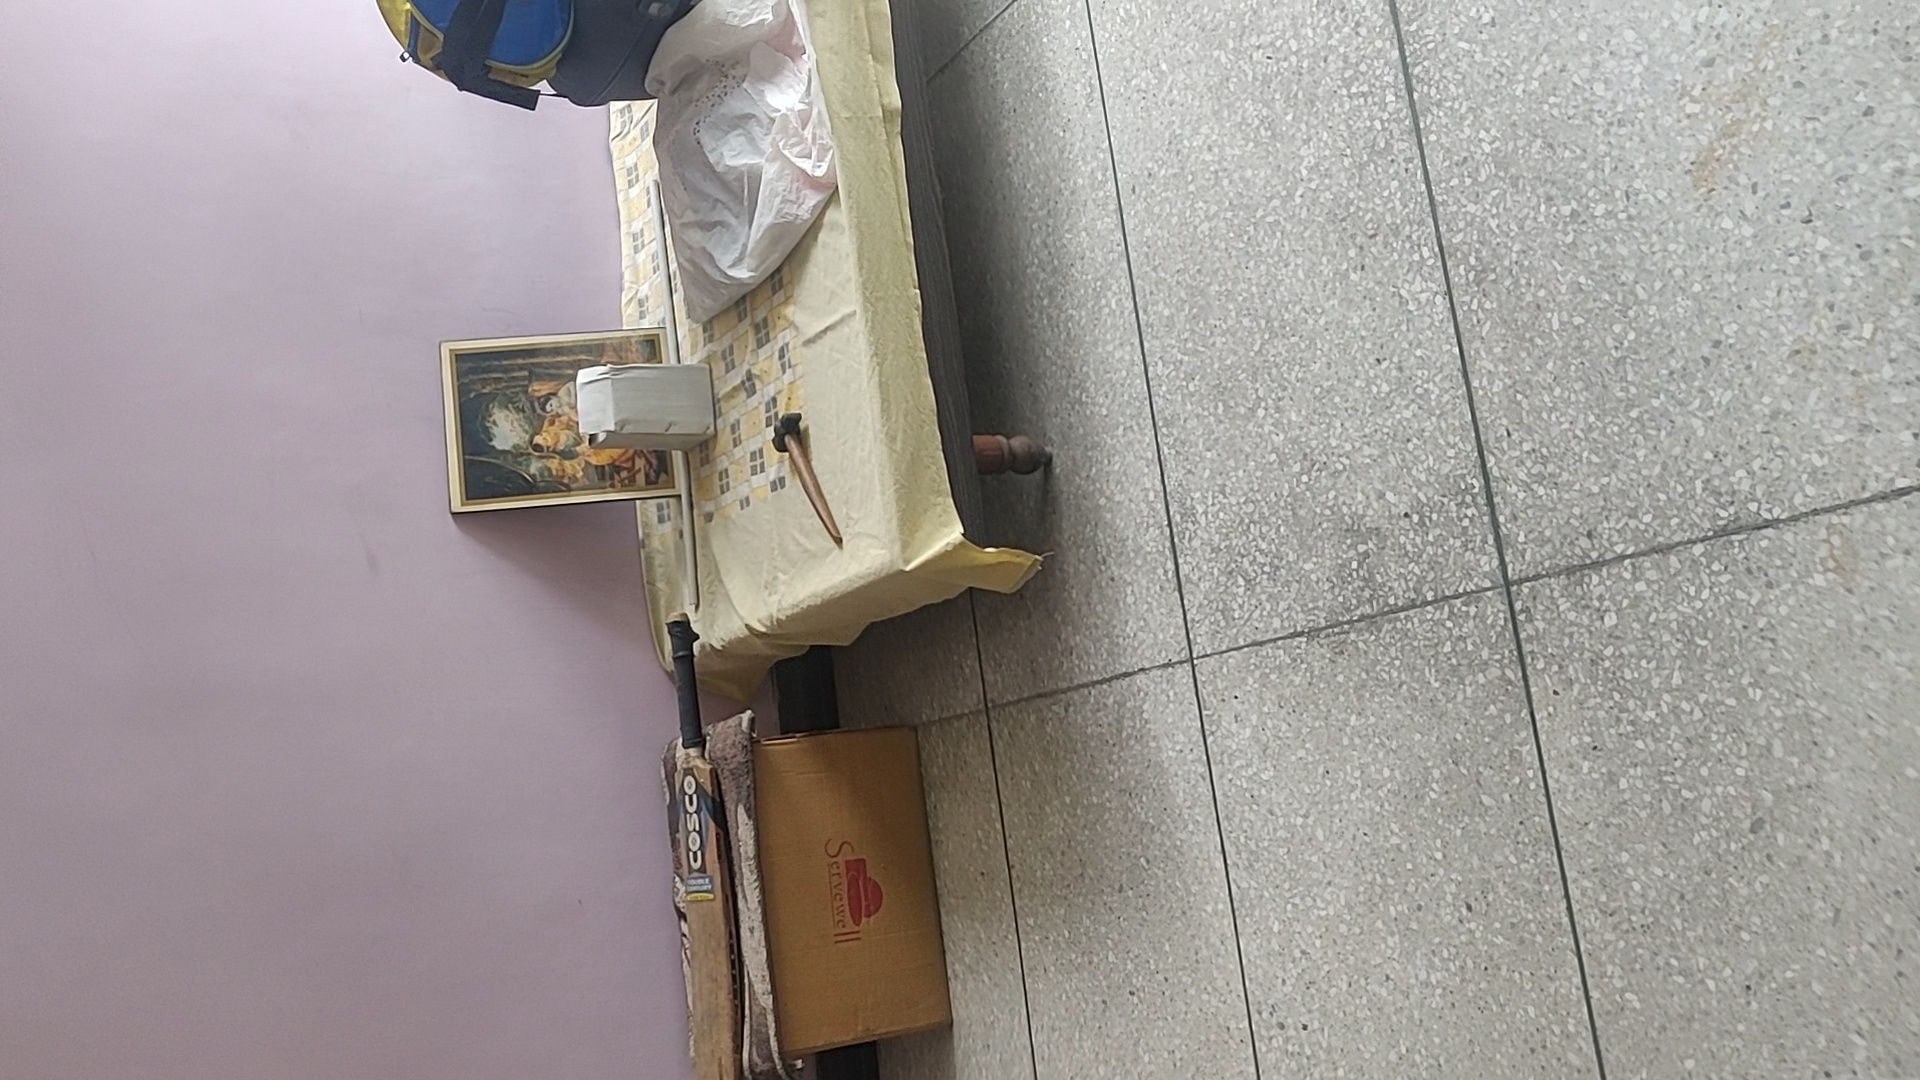hammer: (769, 413, 843, 549)
